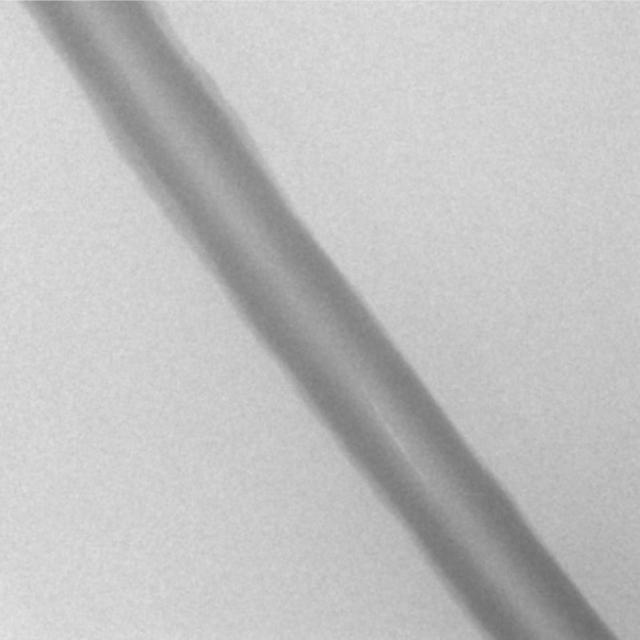crack: (370, 407, 438, 493)
